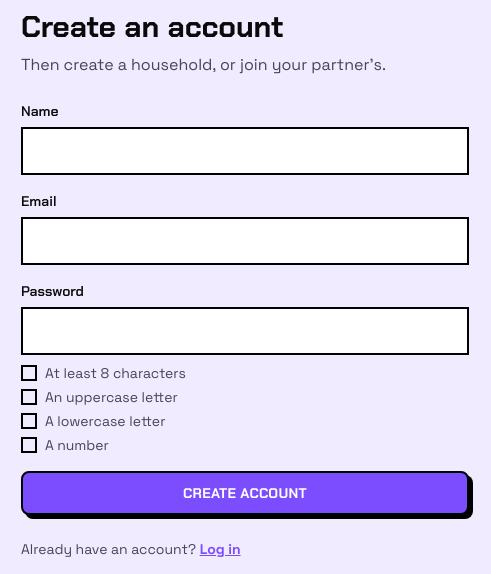
Test: the form › ticks the rules off as they are met, and only the ones that are
Type "abcdefgh" into the password field labelled "Password".
click(245, 331); type("abcdefgh")  # box left=21, top=307, right=469, bottom=355
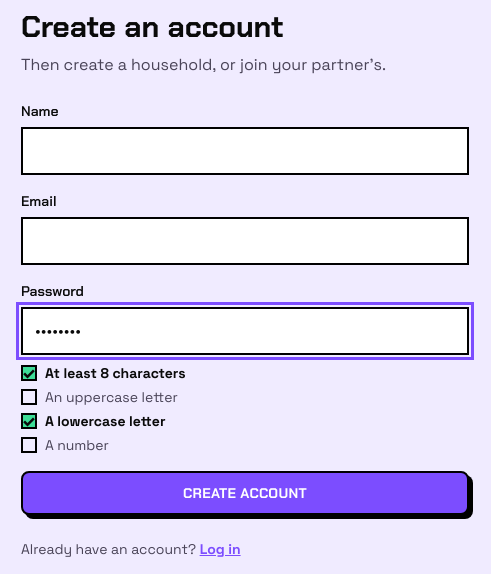
expect the list item with aria-label "uppercase letter: not met yet" is shown: met, box left=21, top=388, right=178, bottom=406
expect the list item with aria-label "at least 8 characters: met" is shown: met, box left=21, top=364, right=186, bottom=382
expect the list item with aria-label "lowercase letter: met" is shown: met, box left=21, top=412, right=165, bottom=430
